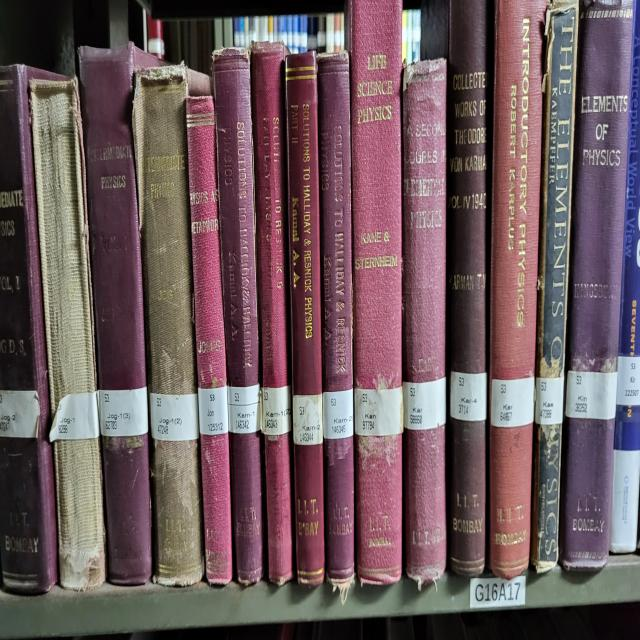Book: (560, 0, 634, 568), (79, 43, 156, 584), (30, 78, 105, 590), (132, 65, 204, 587), (0, 65, 65, 593), (489, 0, 546, 579), (350, 0, 402, 584), (531, 0, 579, 571), (214, 49, 264, 584), (448, 0, 490, 576), (251, 41, 294, 584), (402, 60, 446, 584), (186, 95, 232, 584), (285, 54, 325, 584), (318, 54, 355, 595)
Label: (565, 371, 618, 419), (49, 392, 100, 441), (98, 387, 149, 436), (354, 387, 404, 436), (150, 392, 199, 441), (402, 376, 446, 430), (490, 376, 535, 427), (450, 371, 488, 422), (0, 390, 40, 438), (292, 392, 322, 446), (228, 384, 261, 433), (261, 384, 291, 436), (322, 390, 354, 438), (198, 387, 229, 436), (535, 376, 564, 425)
